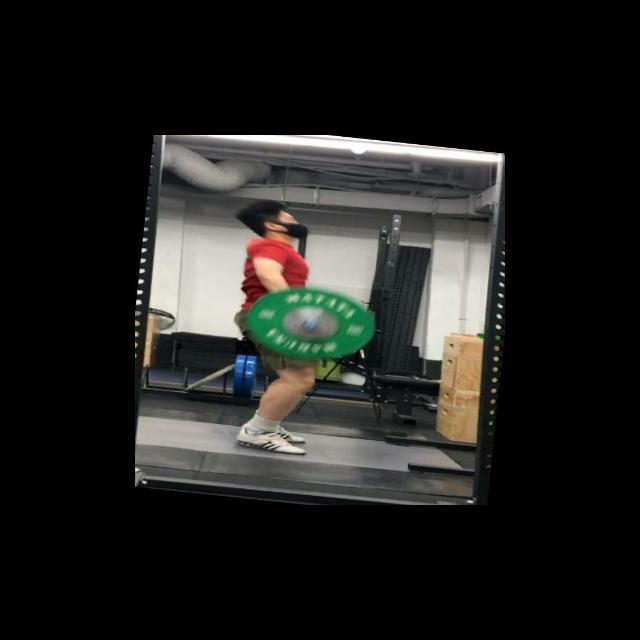barbell: (235, 276, 389, 369)
